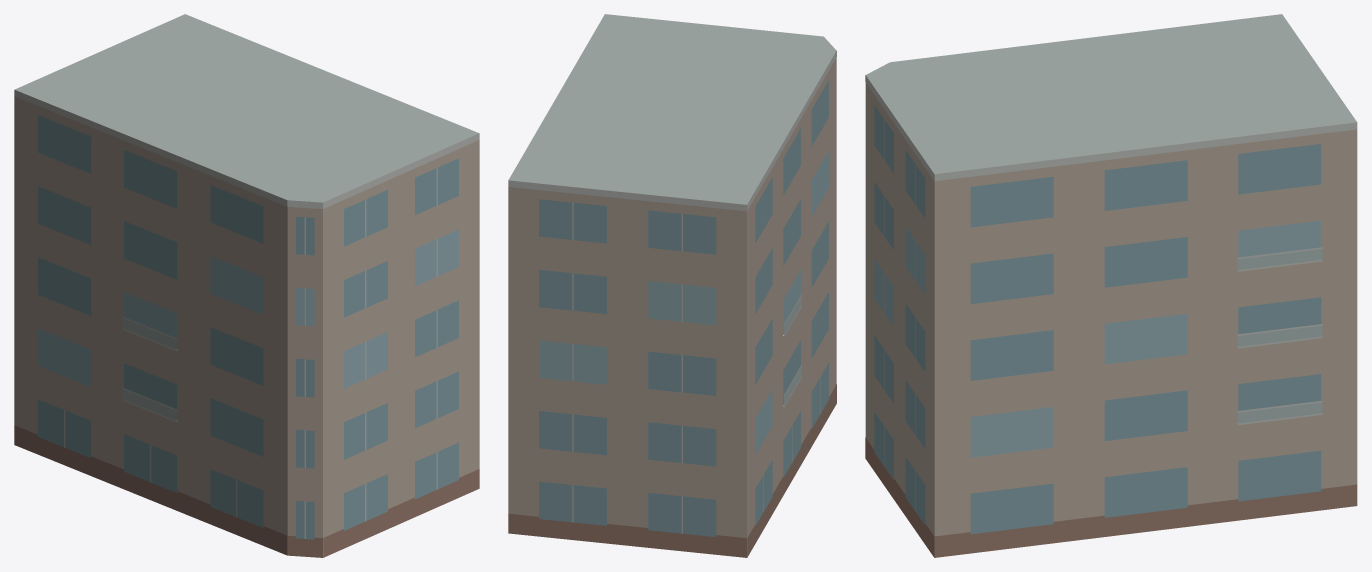
Rendered from survey-upis-32614056.glb.
3 views of the same model, side by side, from view 1: azimuth 30°, elevation 25°; view 2: azimuth 150°, elevation 25°; view 3: azimuth 270°, elevation 25° (orthographic). The views are drawn at different scales.
Parts seen in each view (by area): view 1: survey-upis-32614056.tmp; view 2: survey-upis-32614056.tmp; view 3: survey-upis-32614056.tmp.
Boxes of the visible parts, <box> form: survey-upis-32614056.tmp: <box>14,14,479,557</box>; survey-upis-32614056.tmp: <box>508,14,836,557</box>; survey-upis-32614056.tmp: <box>865,14,1357,557</box>.
Bounding box in the file's own units: 11.93 × 13.3 × 15.46.
